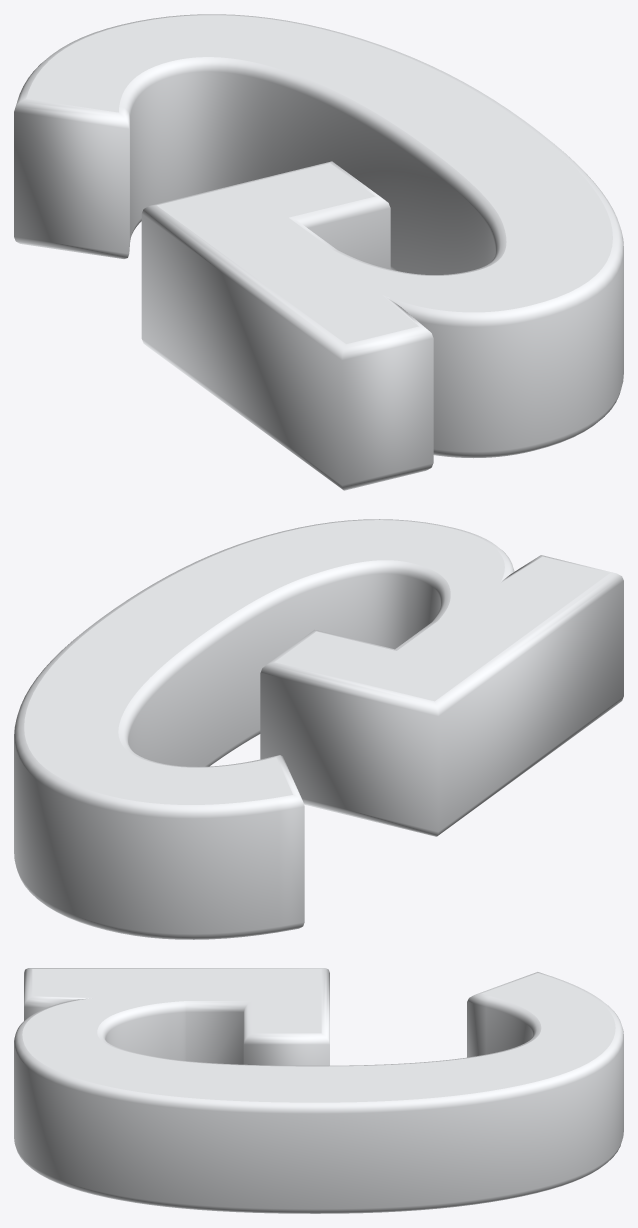
File: goal_clear_letter_00.obj
3 renders of one model, top to bottom at view 1: azimuth 30°, elevation 25°; view 2: azimuth 150°, elevation 25°; view 3: azimuth 270°, elevation 25°, orthographic. The views are drawn at different scales.
Parts seen in each view (by area): view 1: goal_clear_letter_00; view 2: goal_clear_letter_00; view 3: goal_clear_letter_00.
Part boxes in pixels (bbox=[...]): goal_clear_letter_00: bbox=[14, 14, 623, 490]; goal_clear_letter_00: bbox=[14, 519, 623, 939]; goal_clear_letter_00: bbox=[14, 968, 623, 1213].
Bounding box in the file's own units: 0.7214 × 0.2636 × 1.32.
Materials: 1 (1 with a texture image).
